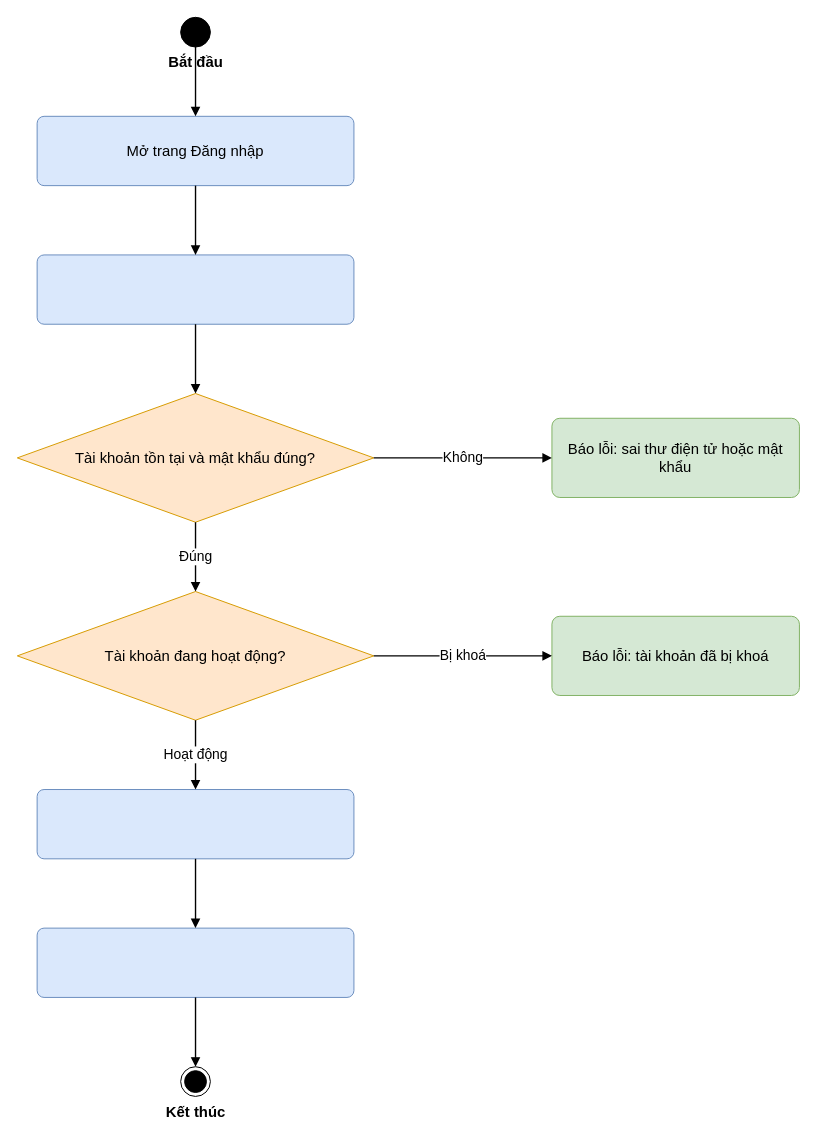
Image size: 817x1139. Some labels were removed from this diagram. The centre of each missing label's shape, as x and y in pixels:
Chuyển tới trang Tổng quan: the point at 195,962
Cấp thẻ đăng nhập (hiệu lực 7 ngày): the point at 195,824
Nhập thư điện tử và mật khẩu: the point at 195,289
